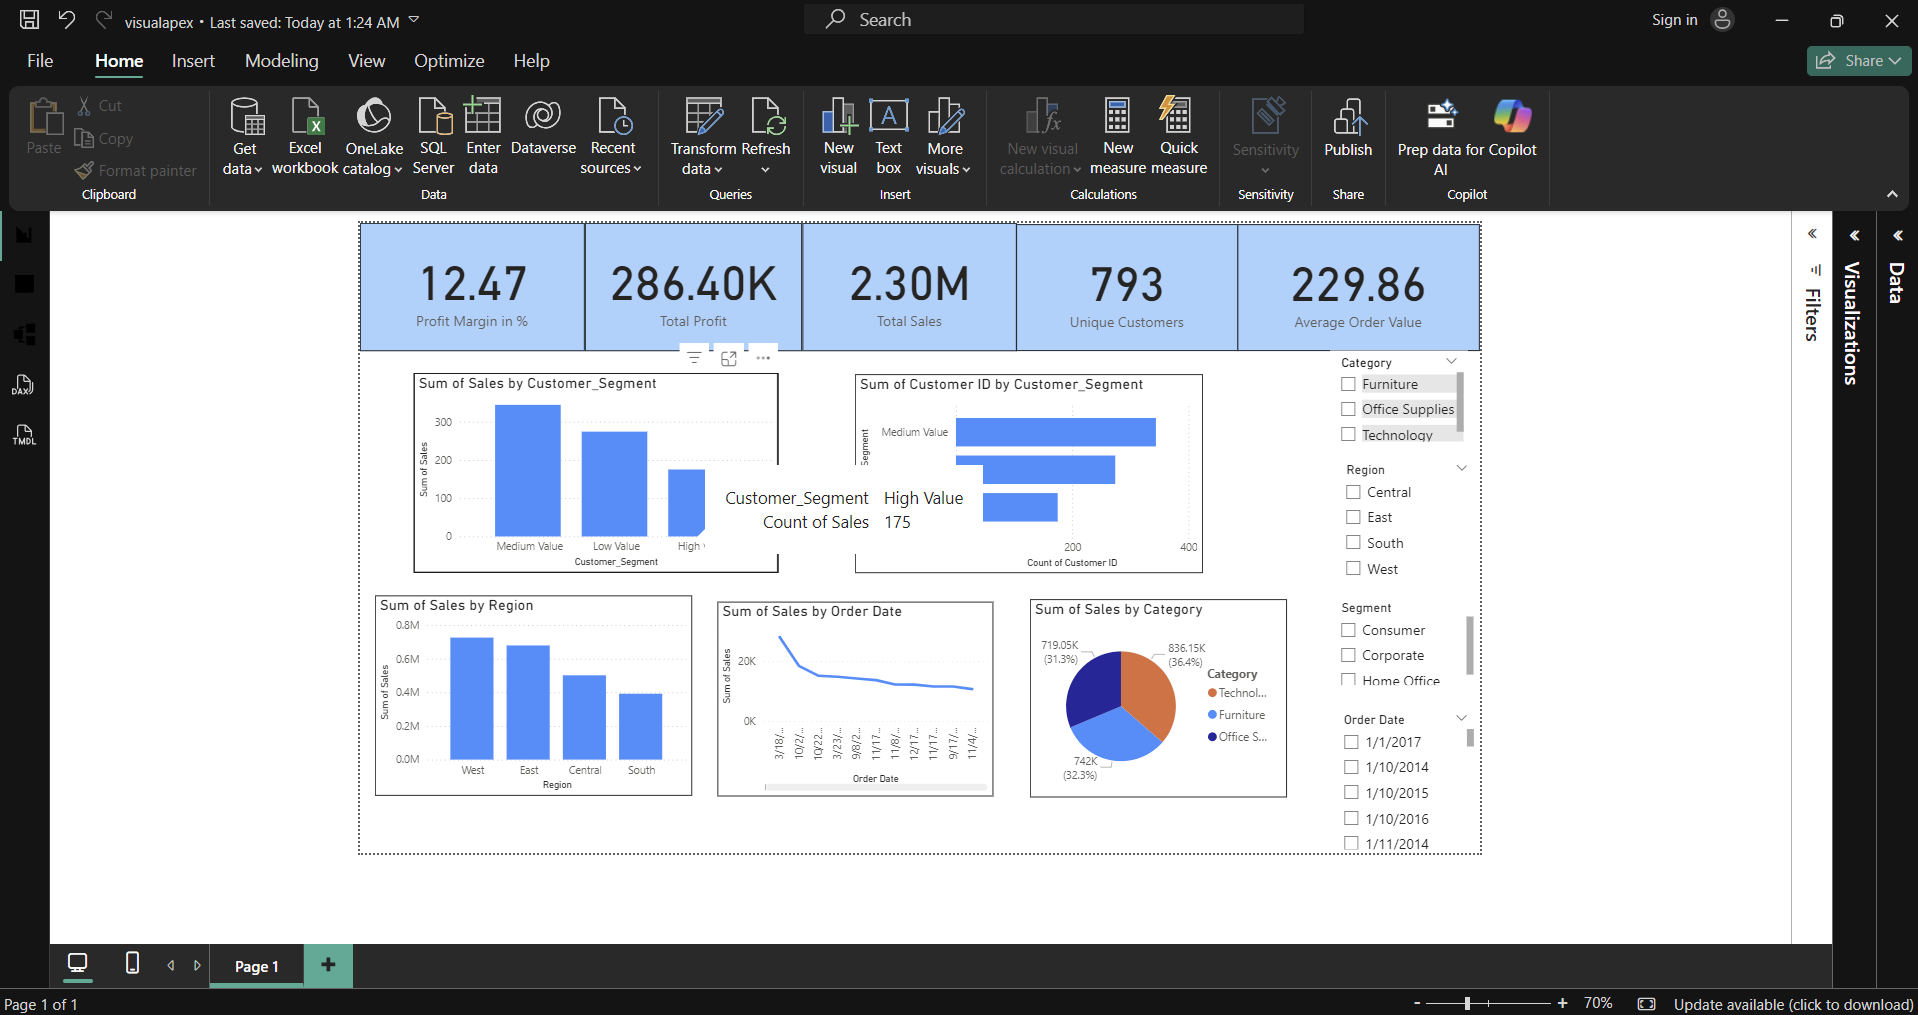

This screenshot's page, from the dashboard's own definition file:
{"tool":"powerbi","page":{"name":"Page 1","canvas":[1280,720],"ordinal":0},"visuals":[{"type":"card","title":"Profit margin in percemtage","fields":{"Values":["clean_superstore.Profit Margin"]},"box":[0,0,256.7,146.7],"z":0},{"type":"card","fields":{"Values":["clean_superstore.Total Profit"]},"box":[256.7,0,248.3,146.7],"z":1000},{"type":"card","fields":{"Values":["clean_superstore.Total Sales"]},"box":[505,0,245,146.7],"z":2000},{"type":"card","fields":{"Values":["clean_superstore.Unique Customers"]},"box":[750,1.7,253.3,145],"z":3000},{"type":"card","fields":{"Values":["clean_superstore.Average Order Value"]},"box":[1003.3,1.7,276.7,145],"z":4000},{"type":"clusteredColumnChart","title":"Sum of Sales by Customer_Segment","fields":{"Category":["customer_segmented.Customer_Segment"],"Y":["CountNonNull(customer_segmented.Sales)"]},"box":[62,172,416,228],"z":4001},{"type":"barChart","title":"Sum of Customer ID by Customer_Segment","fields":{"Category":["customer_segmented.Customer_Segment"],"Y":["CountNonNull(customer_segmented.Customer ID)"]},"box":[566.2,172.5,397.5,227.5],"z":4002},{"type":"lineChart","fields":{"Category":["clean_superstore.Order Date"],"Y":["Sum(clean_superstore.Sales)"]},"box":[408.8,432.5,315,222.5],"z":4003},{"type":"pieChart","fields":{"Category":["clean_superstore.Category"],"Y":["Sum(clean_superstore.Sales)"]},"box":[765,430,293.8,226.2],"z":4004},{"type":"clusteredColumnChart","fields":{"Category":["clean_superstore.Region"],"Y":["Sum(clean_superstore.Sales)"]},"box":[17.5,426.2,362.5,228.8],"z":4005},{"type":"slicer","fields":{"Values":["clean_superstore.Region"]},"box":[1113.8,268.8,163.8,146.2],"z":4006},{"type":"slicer","fields":{"Values":["clean_superstore.Category"]},"box":[1108.8,146.2,157.5,108.8],"z":4007},{"type":"slicer","fields":{"Values":["clean_superstore.Segment"]},"box":[1108.8,426.2,168.8,107.5],"z":4008},{"type":"slicer","fields":{"Values":["clean_superstore.Order Date"]},"box":[1111.2,553.8,166.2,166.2],"z":4009}]}

Visuals, with their boxes in screenshot pixels (x1, y1, x2, y2):
"Profit margin in percemtage" card: (0, 0, 360, 206)
card - clean_superstore.Total Profit: (360, 0, 717, 206)
card - clean_superstore.Total Sales: (717, 0, 1070, 206)
card - clean_superstore.Unique Customers: (1070, 0, 1435, 206)
card - clean_superstore.Average Order Value: (1435, 0, 1833, 206)
"Sum of Sales by Customer_Segment" clusteredColumnChart: (79, 243, 678, 571)
"Sum of Customer ID by Customer_Segment" barChart: (805, 243, 1378, 571)
lineChart - clean_superstore.Order Date x Sum(clean_superstore.Sales): (579, 618, 1032, 938)
pieChart - clean_superstore.Category x Sum(clean_superstore.Sales): (1091, 614, 1515, 940)
clusteredColumnChart - clean_superstore.Region x Sum(clean_superstore.Sales): (15, 609, 537, 938)
slicer - clean_superstore.Region: (1594, 382, 1830, 593)
slicer - clean_superstore.Category: (1586, 206, 1813, 362)
slicer - clean_superstore.Segment: (1586, 609, 1830, 763)
slicer - clean_superstore.Order Date: (1590, 792, 1829, 1014)
